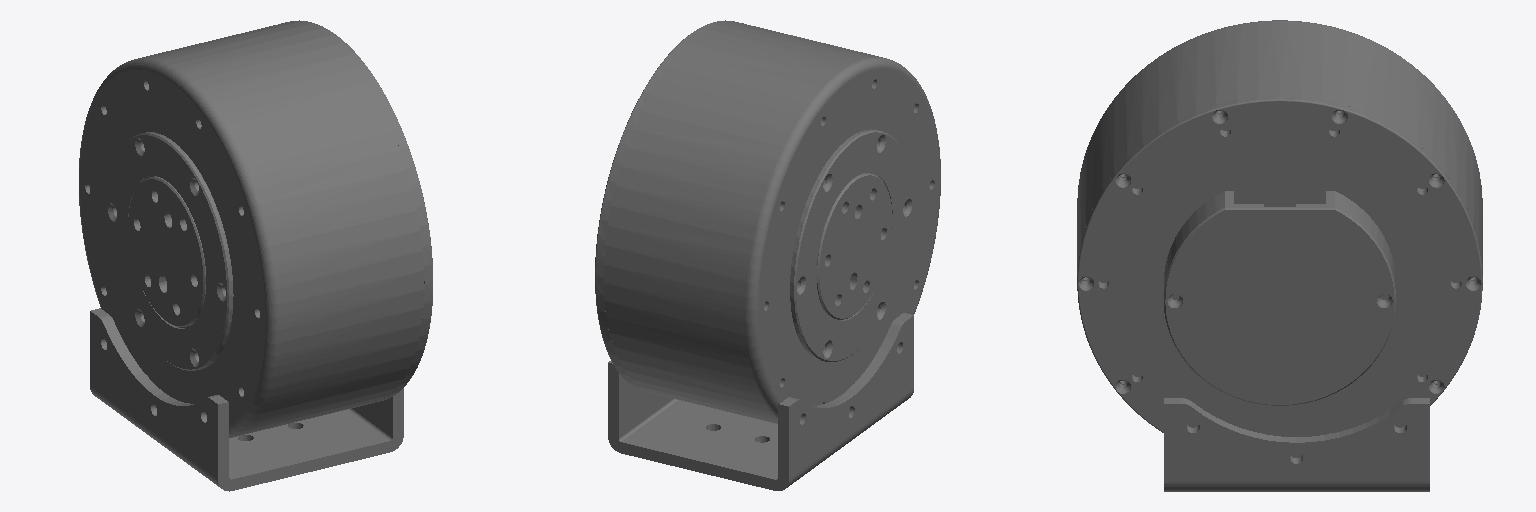
robot.urdf — tinybot:
<?xml version="1.0" encoding="utf-8"?>
<!-- This URDF was automatically created by SolidWorks to URDF Exporter! Originally created by [author] ([email redacted])
     Commit Version: 1.4.4-24-g24328f6  Build Version: 1.5.7084.36479
     For more information, please see http://wiki.ros.org/sw_urdf_exporter -->
<robot name="tinybot">
  <link name="forearm_link">
    <inertial>
      <origin xyz="0.0079258 5.3524E-05 0.12812" rpy="0 0 0" />
      <mass value="13.418" />
      <inertia
        ixx="0.13734"
        ixy="3.8873E-05"
        ixz="0.0035268"
        iyy="0.14138"
        iyz="0.00022692"
        izz="0.11173" />
    </inertial>
    <visual>
      <origin xyz="-0.03 -0.04 0" rpy="0 0 0" />
      <geometry>
        <mesh filename="module_sets/tinybot/meshes/corner_p_list_X10.STL"  scale="0.001 0.001 0.001"/>
      </geometry>
      <material name="">
        <color rgba="0.5 0.5 0.5 1" />
      </material>
    </visual>
    <collision>
      <origin xyz="-0.03 -0.04 0" rpy="0 0 0" />
      <geometry>
        <mesh filename="module_sets/tinybot/meshes/corner_p_list_X10.STL"  scale="0.001 0.001 0.001"/>
      </geometry>
    </collision>
  </link>
  <link name="forearm_motor_link">
    <inertial>
      <origin xyz="0.0 0 0.0" rpy="3.1415926535 0 0" />
      <mass value="13.418" />
      <inertia
        ixx="0.13734"
        ixy="3.8873E-05"
        ixz="0.0035268"
        iyy="0.14138"
        iyz="0.00022692"
        izz="0.11173" />
    </inertial>
    <visual>
      <origin xyz="0 0 0" rpy="0 1.57079632679 0" />
      <geometry>
        <mesh filename="module_sets/tinybot/meshes/RMD-X10-S2-V3.STL"  scale="0.001 0.001 0.001"/>
      </geometry>
      <material name="">
        <color rgba="0.5 0.5 0.5 1" />
      </material>
    </visual>
    <collision>
      <origin xyz="0 0 0" rpy="0 1.57079632679 0" />
      <geometry>
        <mesh filename="module_sets/tinybot/meshes/RMD-X10-S2-V3.STL"  scale="0.001 0.001 0.001"/>
      </geometry>
    </collision>
  </link>
  <joint name="forearm_joint" type="continuous">
    <origin xyz="0.033 -0.04 0.1" rpy="0 0 0"/>
    <axis xyz="0 0 1"/>
    <parent link="forearm_link"/>
    <child link="forearm_motor_link"/>
  </joint>
</robot>

--- What the picture shows (computed from the rendered views, not written in the file) ---
The picture shows the robot from 3 angles, left to right: view 1: azimuth 30°, elevation 25°; view 2: azimuth 150°, elevation 25°; view 3: azimuth 270°, elevation 25°; orthographic projection.
Model tinybot with 2 links and 1 joints (1 continuous), rooted at forearm_link, posed all joints at 0.
Links seen in each view (by area): view 1: forearm_motor_link, forearm_link; view 2: forearm_motor_link, forearm_link; view 3: forearm_motor_link, forearm_link.
Link boxes in pixels (x1=…): forearm_motor_link: x1=79, y1=20, x2=432, y2=437; forearm_link: x1=90, y1=308, x2=403, y2=491; forearm_motor_link: x1=595, y1=20, x2=940, y2=423; forearm_link: x1=608, y1=313, x2=913, y2=490; forearm_motor_link: x1=1077, y1=20, x2=1482, y2=457; forearm_link: x1=1164, y1=398, x2=1429, y2=491.
Size in the robot's own frame: 0.0753 by 0.122 by 0.1299 metres.
Meshes: 2 distinct files referenced, 2 mesh visuals loaded (2 binary STL).